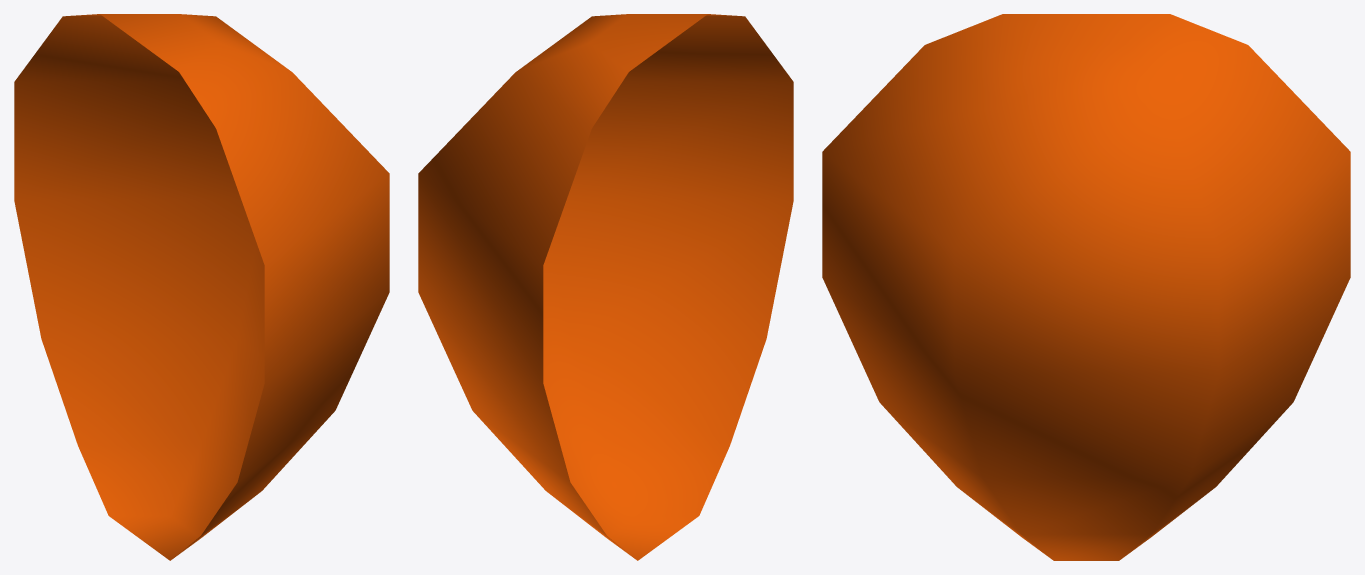
The model's file is baloon.glb.
The picture shows the model from 3 angles, left to right: view 1: azimuth 30°, elevation 25°; view 2: azimuth 150°, elevation 25°; view 3: azimuth 270°, elevation 25°; orthographic projection. The views are drawn at different scales.
Visible parts, largest first — view 1: Sphere; view 2: Sphere; view 3: Sphere.
Part boxes in pixels (<box>): Sphere: <box>14,14,389,560</box>; Sphere: <box>418,14,793,560</box>; Sphere: <box>822,14,1350,560</box>.
Size of the model in its own units: 0.7814 by 1.97 by 1.8.
